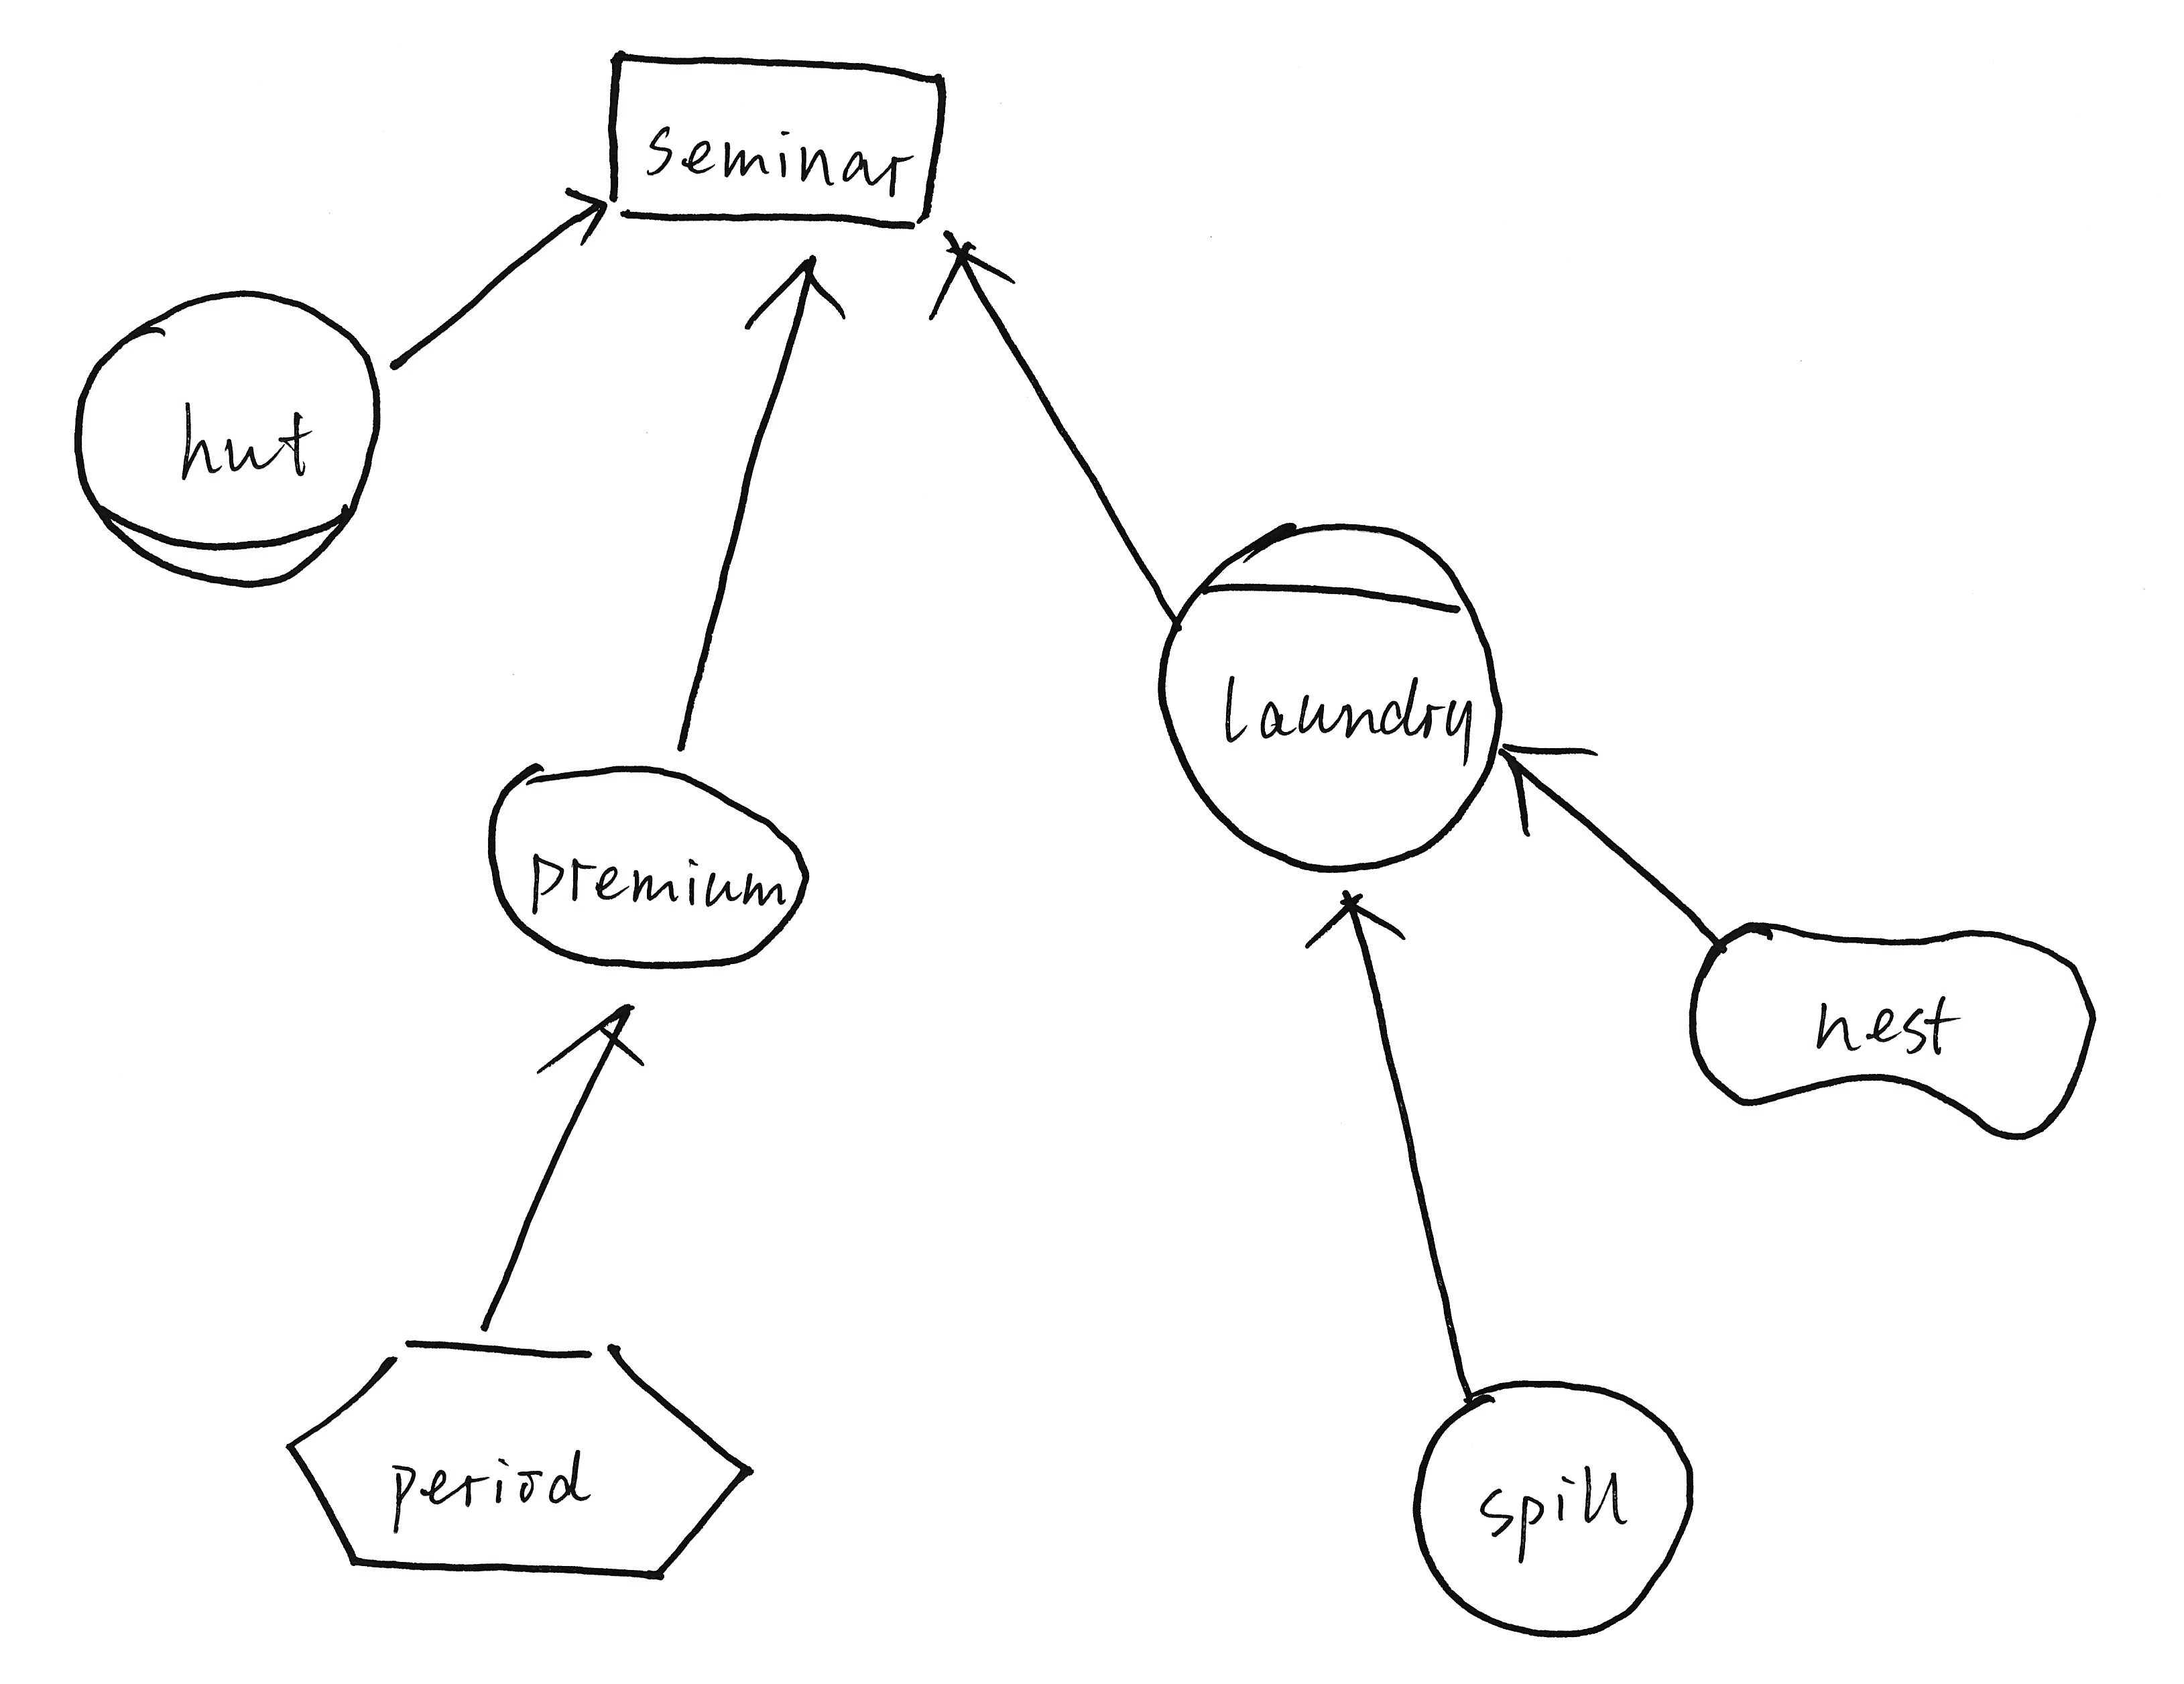actor: (1394, 1366, 1710, 1652)
agent: (1146, 495, 1517, 897)
arrow: (520, 992, 663, 1106), (1489, 725, 1604, 858), (734, 237, 859, 357), (1289, 888, 1425, 980), (913, 228, 1026, 334), (548, 180, 614, 264)
goal: (476, 741, 824, 991)
quality: (1671, 909, 2115, 1162)
resource: (580, 23, 962, 241)
role: (53, 274, 407, 607)
task: (263, 1309, 769, 1604)
